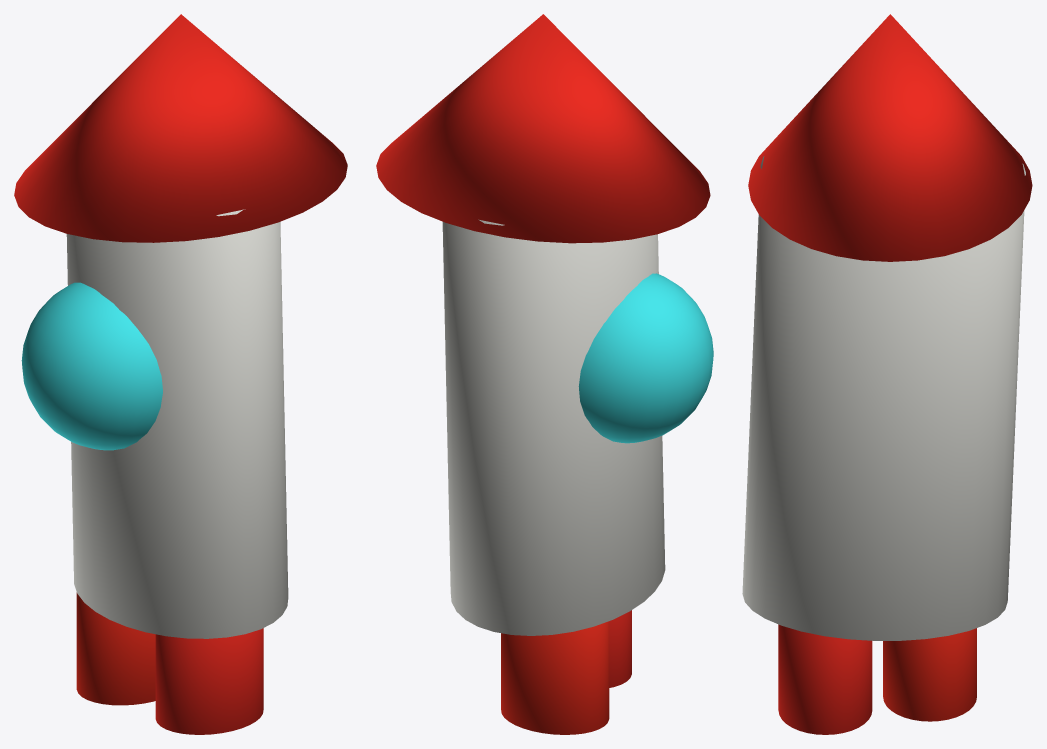
The model's file is nave.glb.
The picture shows the model from 3 angles, left to right: view 1: azimuth 30°, elevation 25°; view 2: azimuth 150°, elevation 25°; view 3: azimuth 270°, elevation 25°; orthographic projection. The views are drawn at different scales.
Visible parts, largest first — view 1: Cylinder.002, Cone, Sphere, Cylinder.003, Cylinder.004; view 2: Cylinder.002, Cone, Sphere, Cylinder.004, Cylinder.003; view 3: Cylinder.002, Cone, Cylinder.003, Cylinder.004.
Boxes of the visible parts, box(x1,y1,x2,y2) form: Cylinder.002: box(66, 209, 288, 638); Cone: box(14, 14, 347, 242); Sphere: box(21, 282, 162, 450); Cylinder.003: box(155, 628, 263, 734); Cylinder.004: box(76, 592, 155, 705); Cylinder.002: box(442, 219, 665, 635); Cone: box(376, 14, 710, 243); Sphere: box(578, 273, 713, 443); Cylinder.004: box(501, 621, 609, 734); Cylinder.003: box(609, 610, 631, 687); Cylinder.002: box(742, 156, 1025, 640); Cone: box(748, 14, 1032, 261); Cylinder.003: box(778, 624, 872, 734); Cylinder.004: box(883, 628, 976, 721).
Size of the model in its own units: 2.01 by 4.26 by 1.6.
